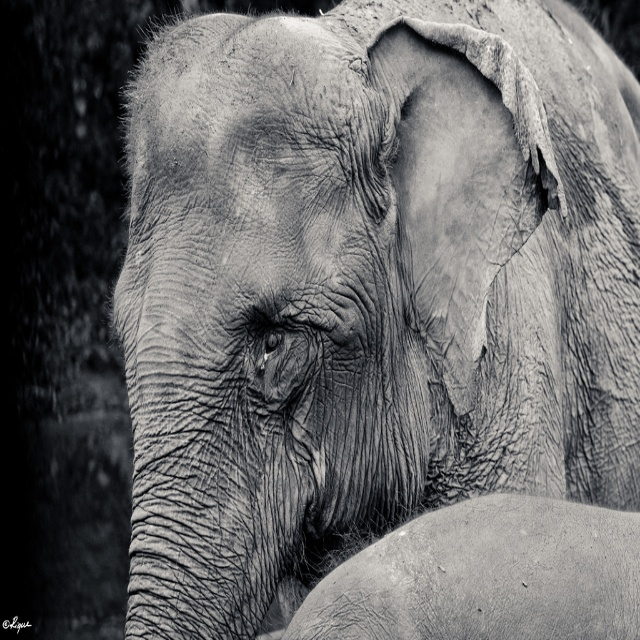Elephant: (94, 0, 622, 634)
